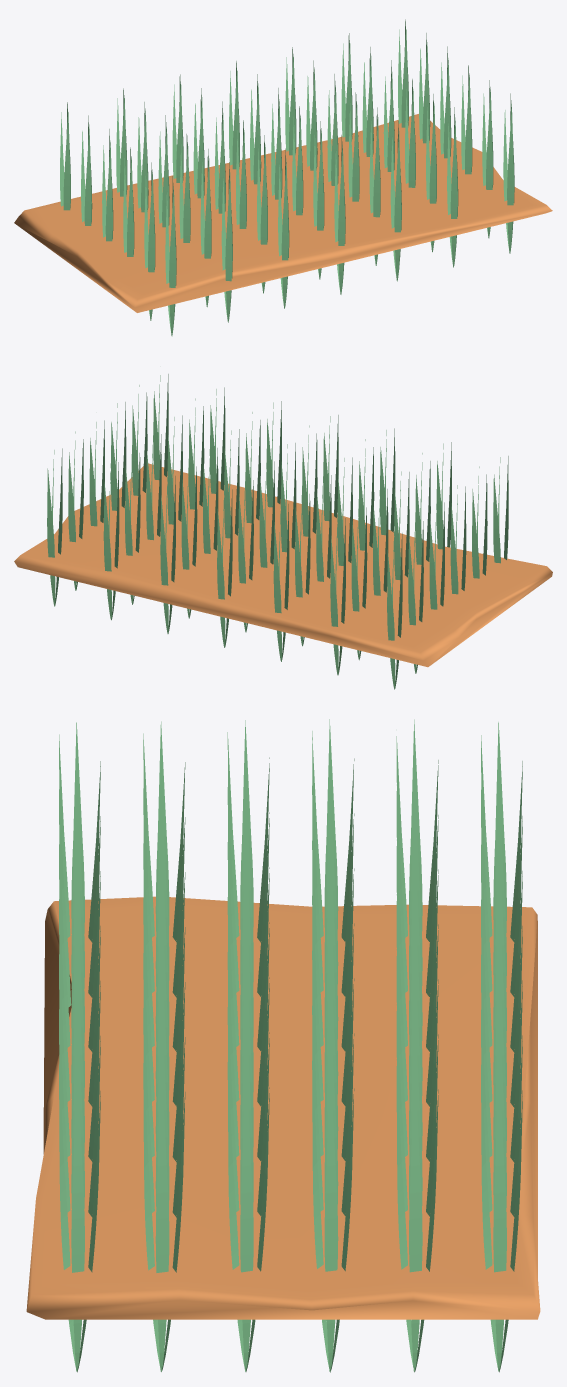
Rendered from sawah.fbx.
3 views of the same model, one above another, from view 1: azimuth 30°, elevation 25°; view 2: azimuth 150°, elevation 25°; view 3: azimuth 270°, elevation 25° (orthographic). The views are drawn at different scales.
Parts seen in each view (by area): view 1: Cube.023, Plane.002; view 2: Cube.023, Plane.002; view 3: Cube.023, Plane.002.
Part boxes in pixels (<box>): Cube.023: <box>14,114,552,312</box>; Plane.002: <box>60,19,514,336</box>; Cube.023: <box>14,463,552,667</box>; Plane.002: <box>47,374,508,689</box>; Cube.023: <box>26,896,540,1319</box>; Plane.002: <box>59,719,522,1372</box>.
Bounding box in the file's own units: 2234 × 838 × 1202.
